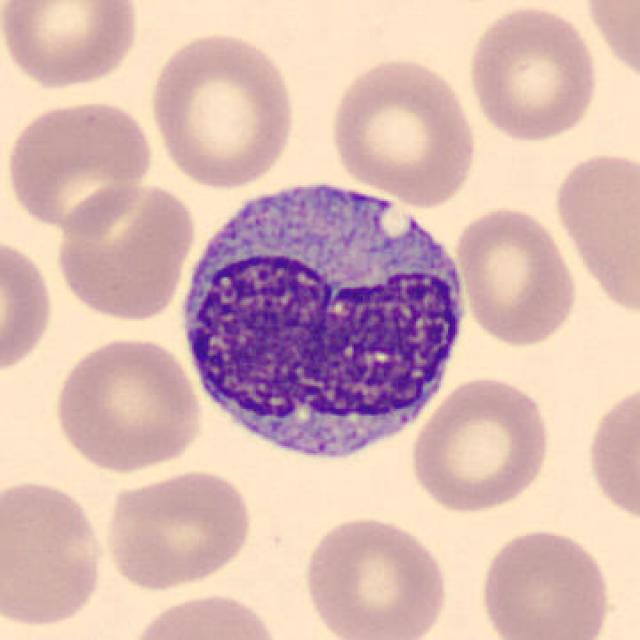Monocyte: (173, 160, 477, 480)
RBC: (146, 28, 300, 190), (325, 53, 482, 206), (50, 333, 204, 476), (2, 95, 156, 235), (51, 178, 198, 324), (407, 372, 555, 515), (464, 1, 603, 144), (298, 511, 452, 640), (100, 466, 256, 592), (452, 203, 580, 349), (0, 474, 108, 632), (474, 523, 615, 640), (549, 143, 640, 319), (0, 0, 144, 92), (0, 233, 59, 381), (583, 377, 638, 529), (121, 589, 284, 640), (579, 0, 640, 88)
